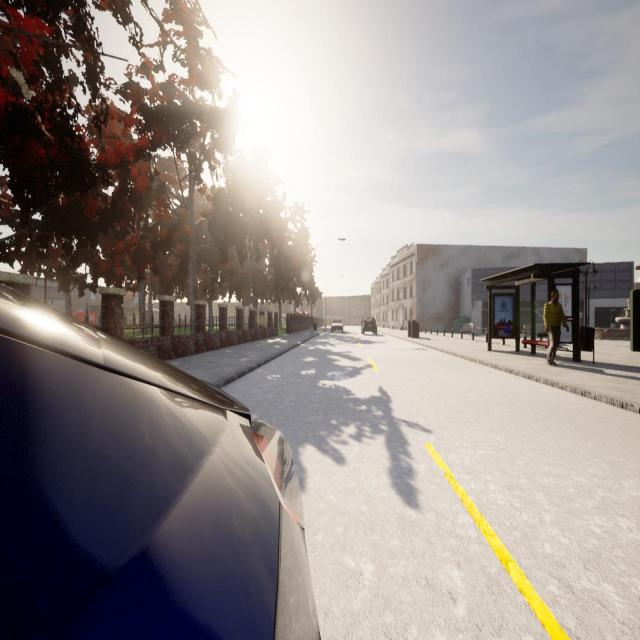Pedestrian: (543, 290, 569, 366)
Vehicle: (0, 288, 318, 640), (360, 317, 378, 336), (331, 320, 344, 333)
